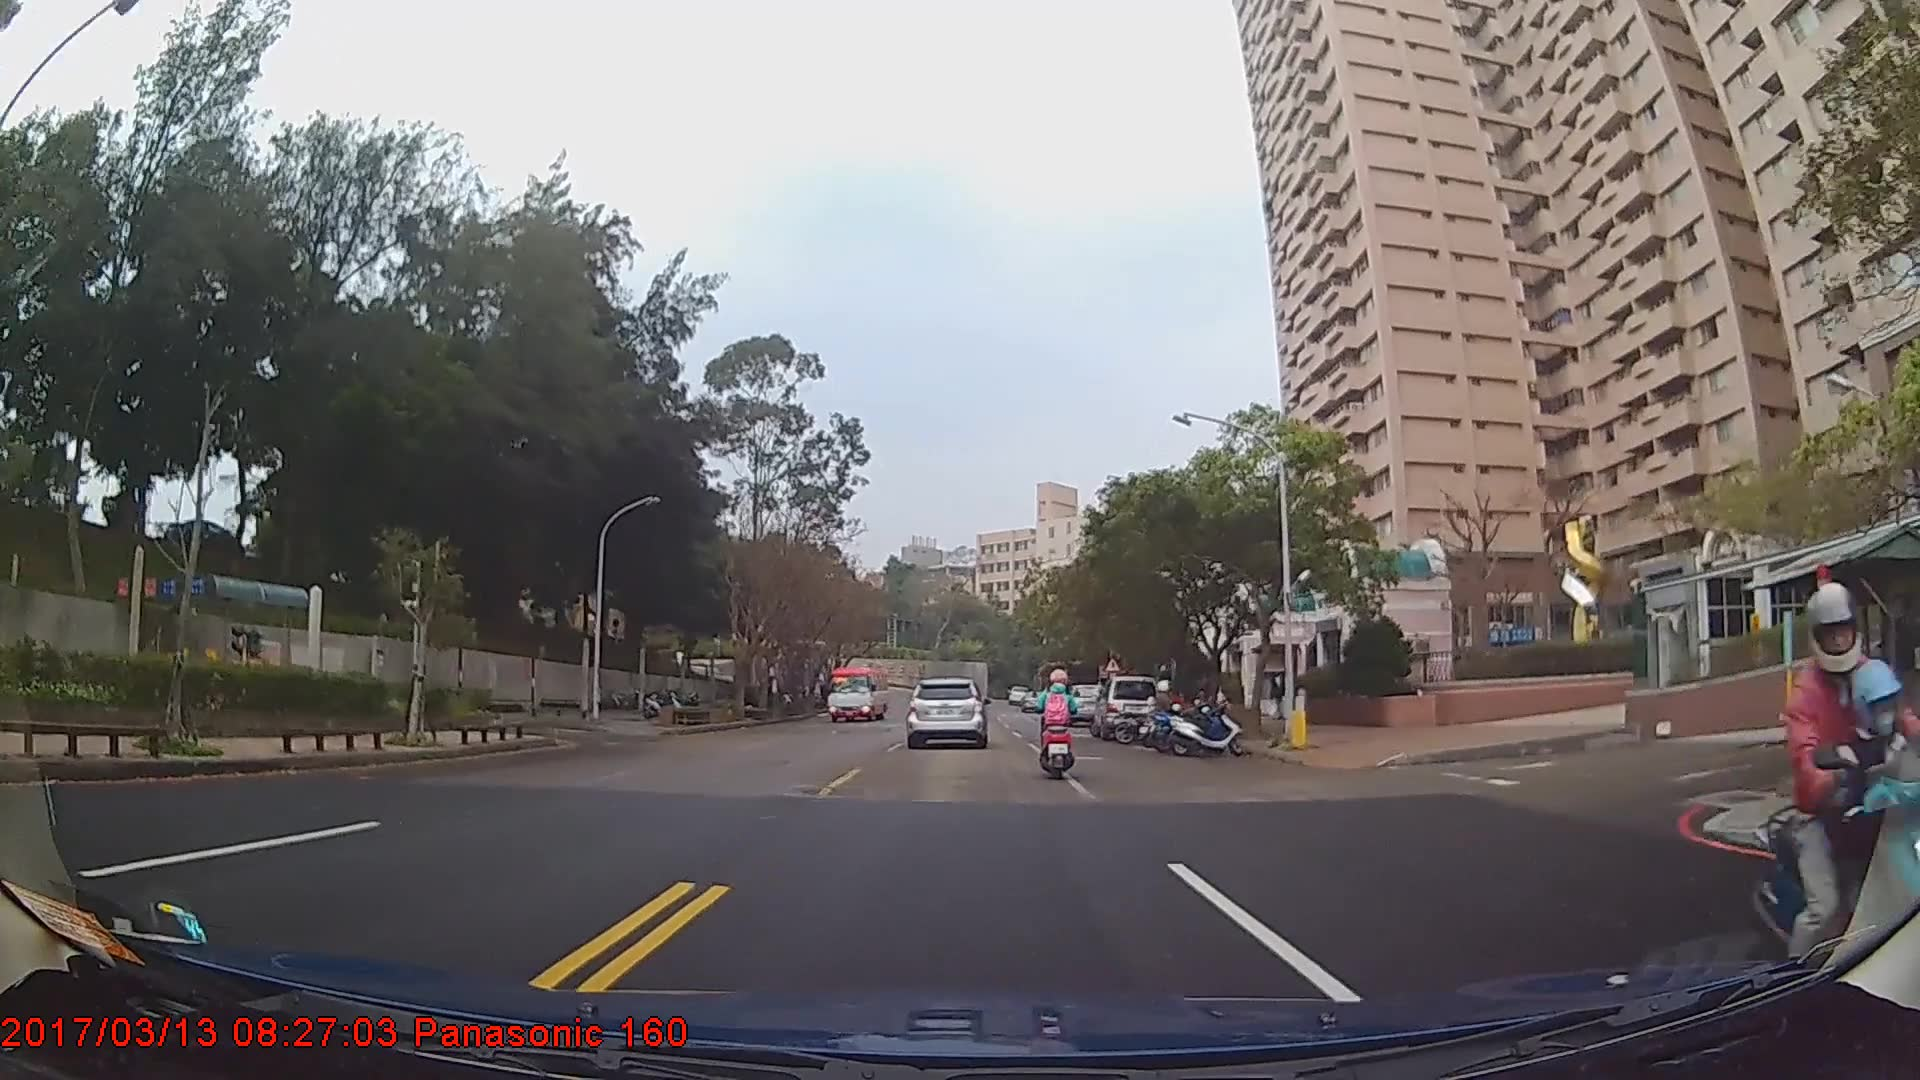rider: (1753, 586, 1920, 986), (1035, 667, 1081, 786), (1140, 681, 1186, 750)
vehicle: (906, 679, 987, 749), (1091, 676, 1160, 741), (823, 666, 887, 725)
